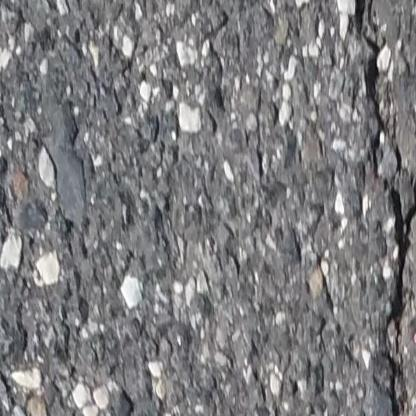Cracks: (350, 0, 416, 416)
